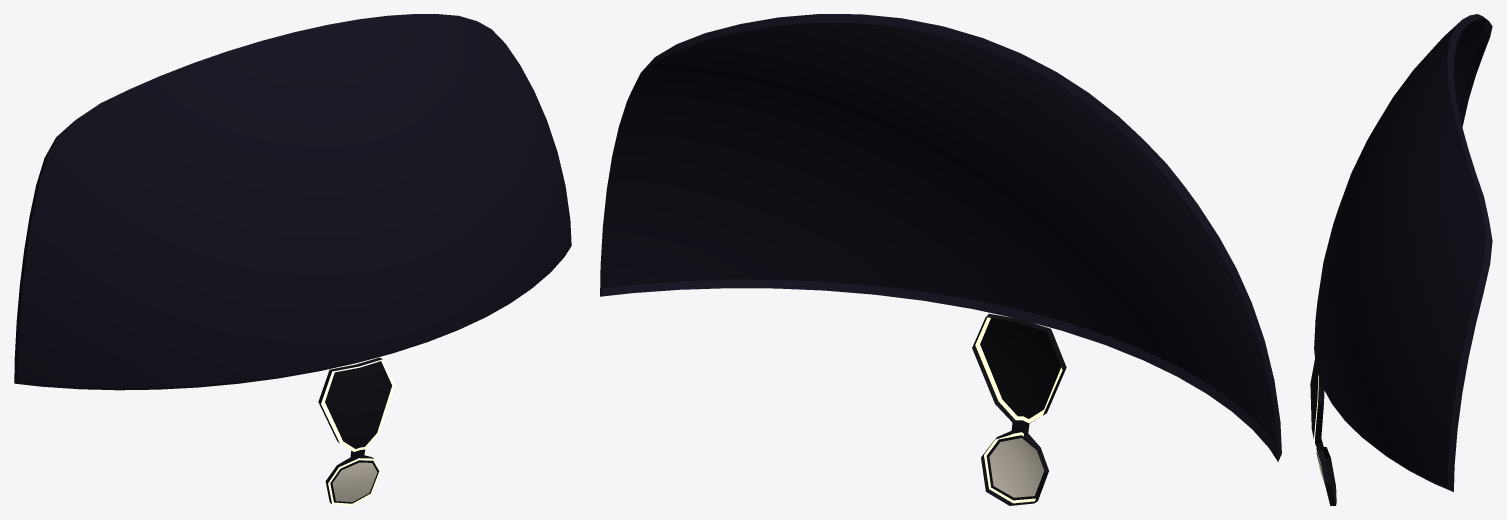
File: TFeliz.fbx
3 views of the same model, side by side, from view 1: azimuth 30°, elevation 25°; view 2: azimuth 150°, elevation 25°; view 3: azimuth 270°, elevation 25° (orthographic). The views are drawn at different scales.
Parts seen in each view (by area): view 1: Tela; view 2: Tela; view 3: Tela.
Boxes of the visible parts, bbox=[...] form: Tela: bbox=[14, 14, 571, 505]; Tela: bbox=[600, 14, 1281, 505]; Tela: bbox=[1310, 14, 1492, 505].
Size of the model in its own units: 10.91 by 8.12 by 3.06.
